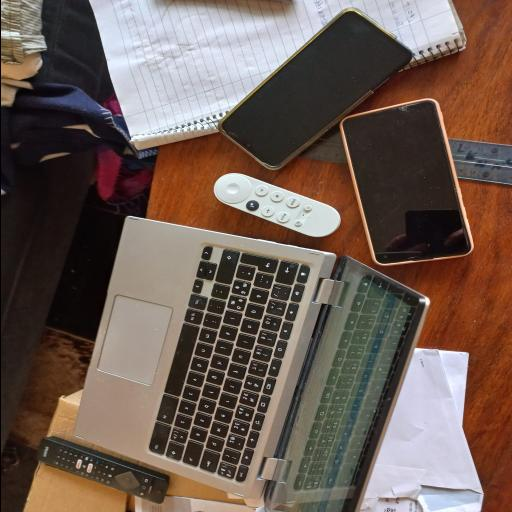phone: (219, 8, 411, 168), (340, 99, 472, 264)
